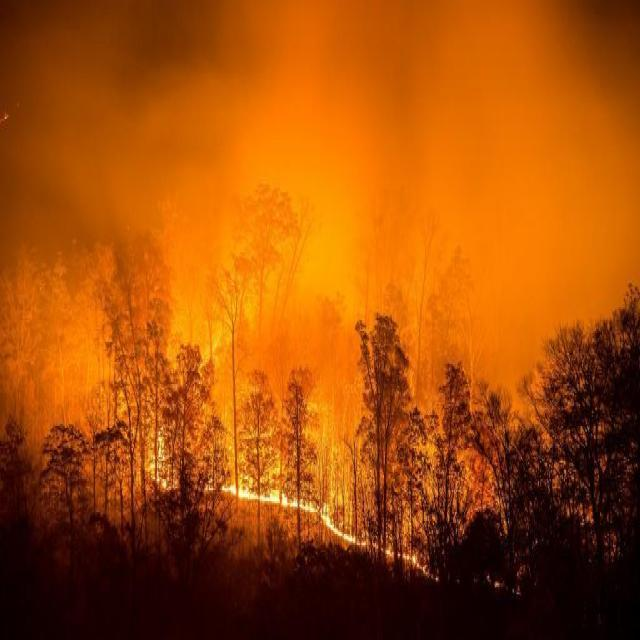Smoke: (2, 0, 542, 486), (540, 0, 639, 328)
